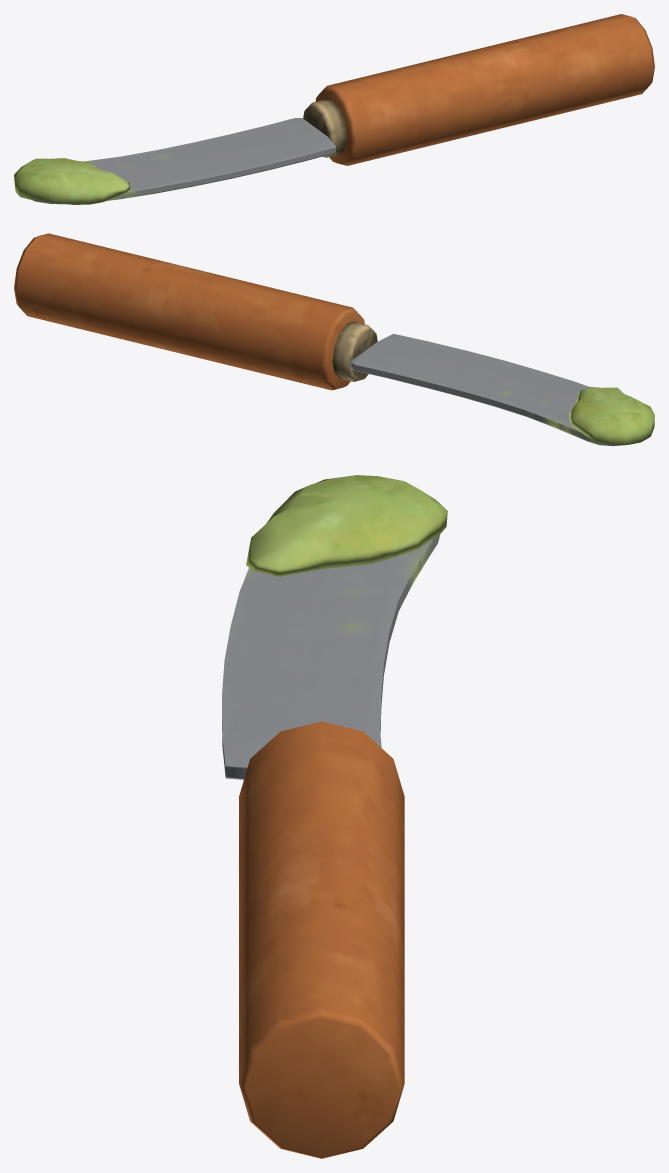
File: pi_knife01_wasabisauce.gltf
3 views of the same model, one above another, from view 1: azimuth 30°, elevation 25°; view 2: azimuth 150°, elevation 25°; view 3: azimuth 270°, elevation 25° (orthographic). The views are drawn at different scales.
Parts seen in each view (by area): view 1: um_pi_knife01_wasabisauce_model_pi_knife01_wasabisauce_model (×2); view 2: um_pi_knife01_wasabisauce_model_pi_knife01_wasabisauce_model (×3); view 3: um_pi_knife01_wasabisauce_model_pi_knife01_wasabisauce_model (×2).
Boxes of the visible parts, left/top/right/bottom form: um_pi_knife01_wasabisauce_model_pi_knife01_wasabisauce_model (×2): left=14, top=14, right=654, bottom=204; um_pi_knife01_wasabisauce_model_pi_knife01_wasabisauce_model (×3): left=14, top=233, right=654, bottom=446; um_pi_knife01_wasabisauce_model_pi_knife01_wasabisauce_model (×2): left=222, top=475, right=447, bottom=1158.
Bounding box in the file's own units: 0.1991 × 0.0235 × 0.0322.
3 materials, 3 textured.
